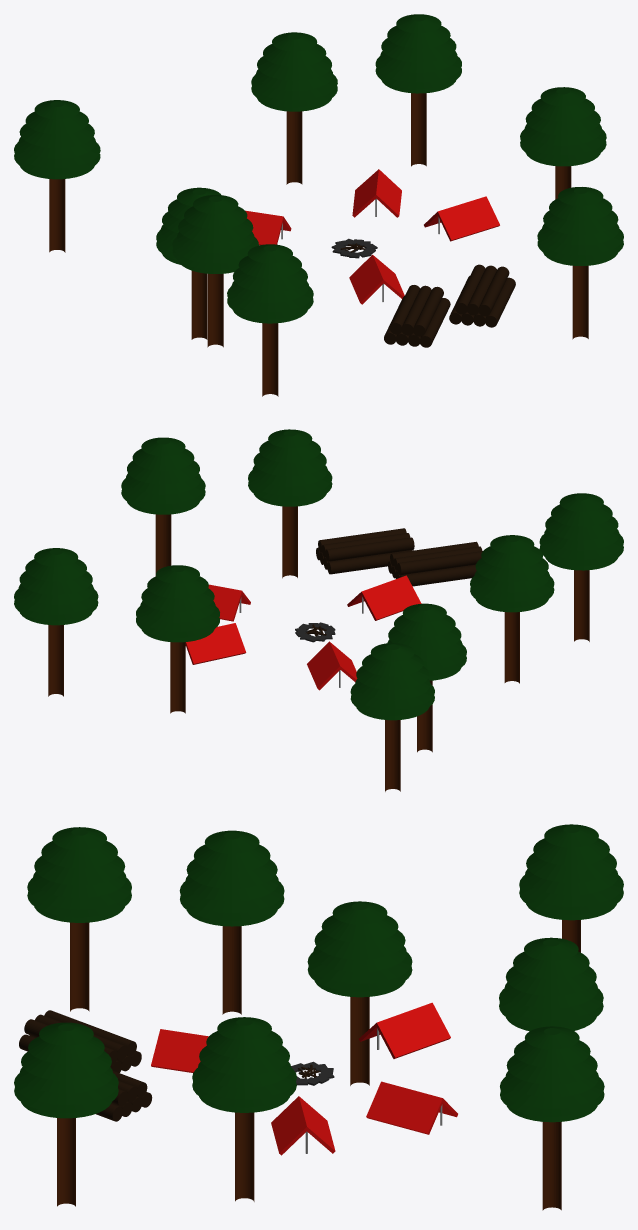
The model's file is lumberjack.obj.
3 renders of one model, top to bottom at view 1: azimuth 30°, elevation 25°; view 2: azimuth 150°, elevation 25°; view 3: azimuth 270°, elevation 25°, orthographic. The views are drawn at different scales.
Visible parts, largest first — view 1: Circle.001, Cylinder.006, Circle.006, Cylinder, Cylinder.001, Plane.005; view 2: Circle.001, Cylinder.006, Cylinder, Cylinder.001, Circle.006, Plane.005; view 3: Circle.001, Cylinder.006, Circle.006, Cylinder.001, Cylinder, Plane.005.
Boxes of the visible parts, box(x1,y1,x2,y2) form: Circle.001: box(14, 14, 623, 396); Cylinder.006: box(245, 169, 499, 304); Circle.006: box(172, 196, 258, 346); Cylinder: box(449, 264, 515, 327); Cylinder.001: box(384, 285, 450, 347); Plane.005: box(331, 238, 377, 258); Circle.001: box(14, 429, 623, 791); Cylinder.006: box(185, 575, 421, 690); Cylinder: box(316, 528, 414, 574); Cylinder.001: box(388, 541, 482, 586); Circle.006: box(470, 535, 554, 682); Plane.005: box(295, 622, 335, 642); Circle.001: box(14, 824, 623, 1210); Cylinder.006: box(151, 1002, 457, 1155); Circle.006: box(179, 830, 283, 1011); Cylinder.001: box(19, 1010, 141, 1072); Cylinder: box(96, 1071, 152, 1121); Plane.005: box(291, 1061, 334, 1085).
Size of the model in its own units: 9.42 by 4.19 by 9.23.
